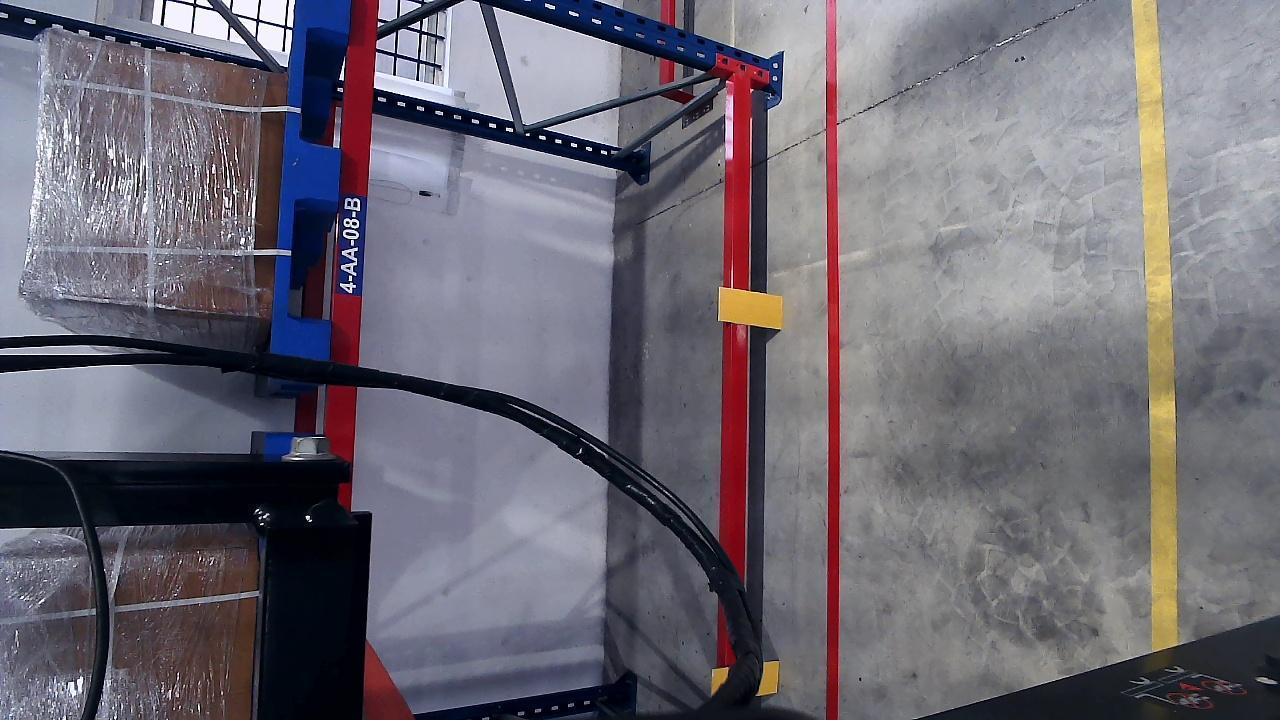yellow_line: (1133, 0, 1180, 652)
